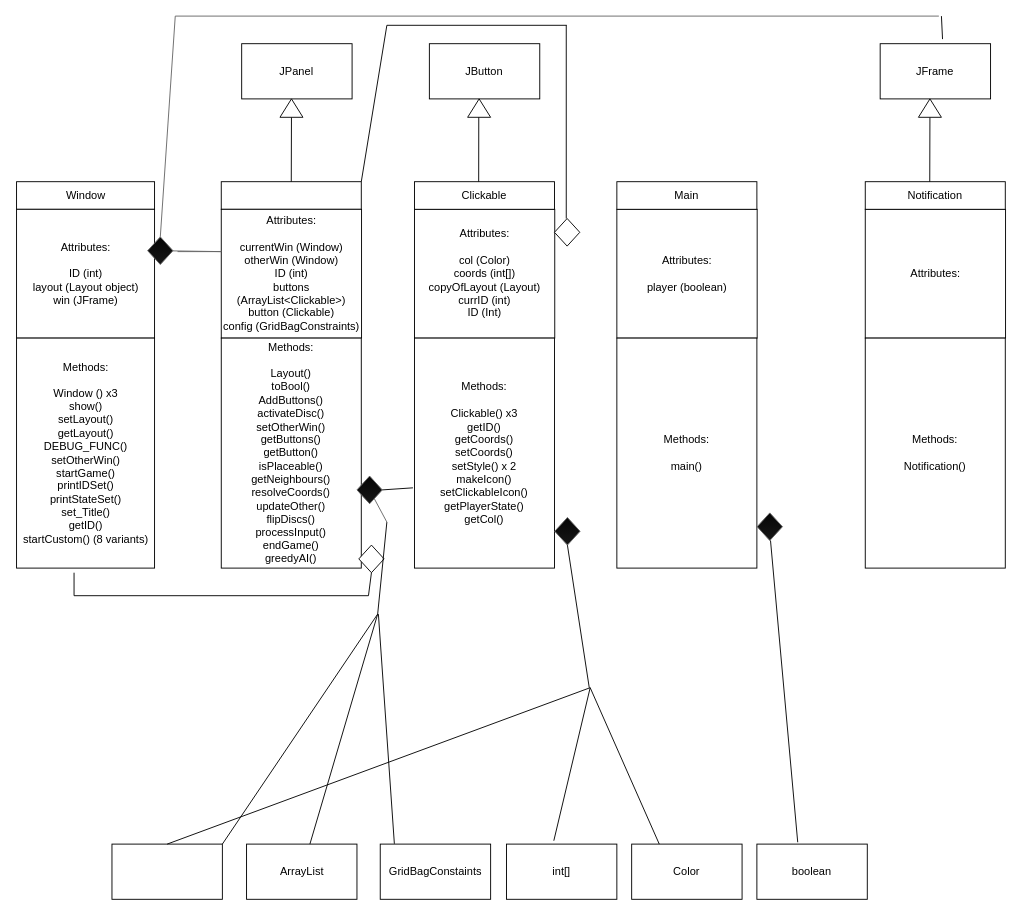
This 1021x915 diagram has some shape labels left out. The shapes that lost their labels are listed below. From the top down, each one's centre as x and y in pixels, then its label:
At point 290,195: "Layout".
At point 166,871: "int".
